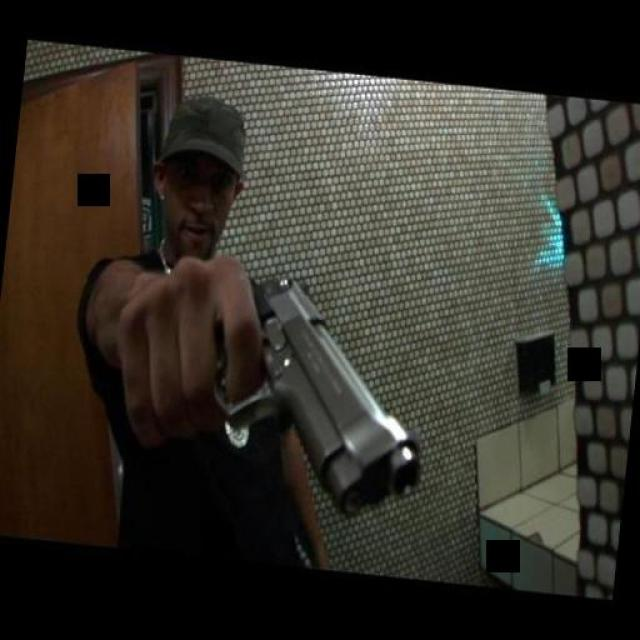gun: (116, 252, 440, 510)
